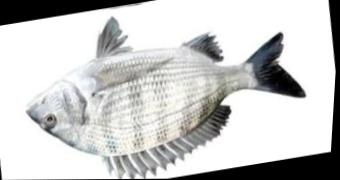fish: (25, 16, 308, 179)
